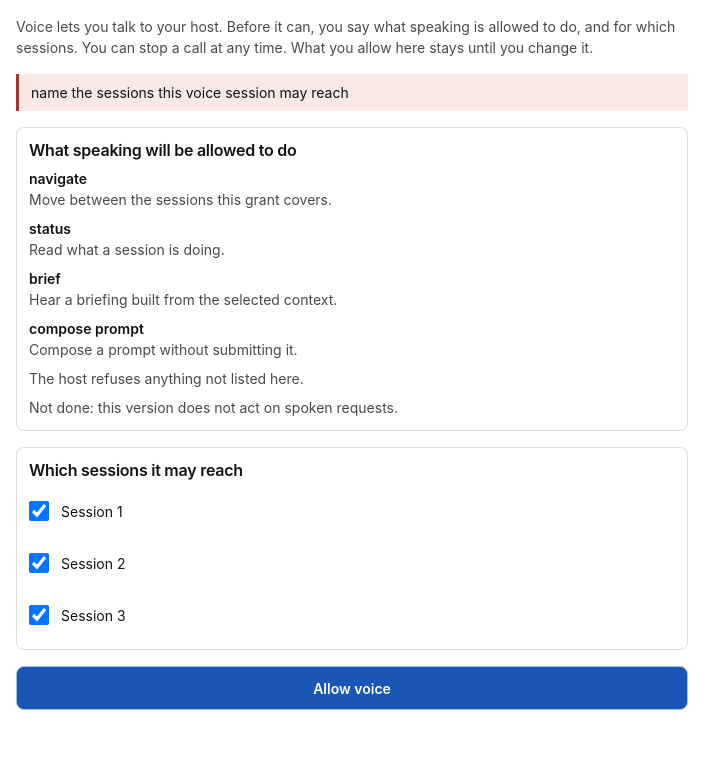
Test: allowing voice for the first time › says what the grant could not carry and waits for the person to go on
(page scrolled)
What coordinates should you click on to do the following:
click the button with test id "voice-allow"
I would click on:
 (352, 688)
Its box is [16,666,688,710].
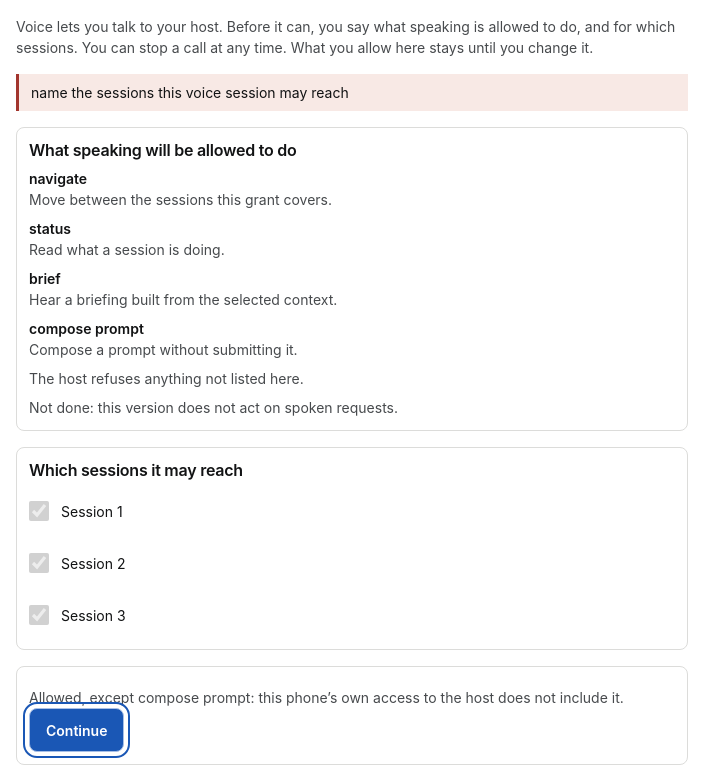
Expected: the message with test id "voice-grant-result" shows "Allowed, except compose prompt", [29,689,624,706]
Expected: the checkbox labelled "Session 1" is disabled, [29,501,49,521]
Expected: the checkbox labelled "Session 2" is disabled, [29,553,49,573]
What coordinates should you click on to do the following:
click the button with test id "voice-grant-continue"
I would click on:
 (77, 730)
Its box is [29,708,124,752].
(page scrolled)
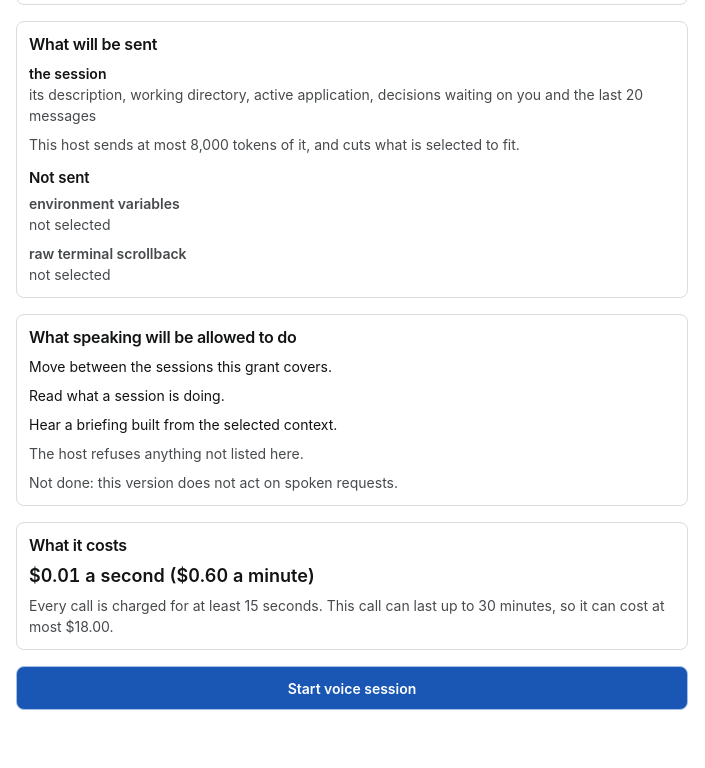
Expected: the button "Start voice session" is shown, [16,666,688,710]
